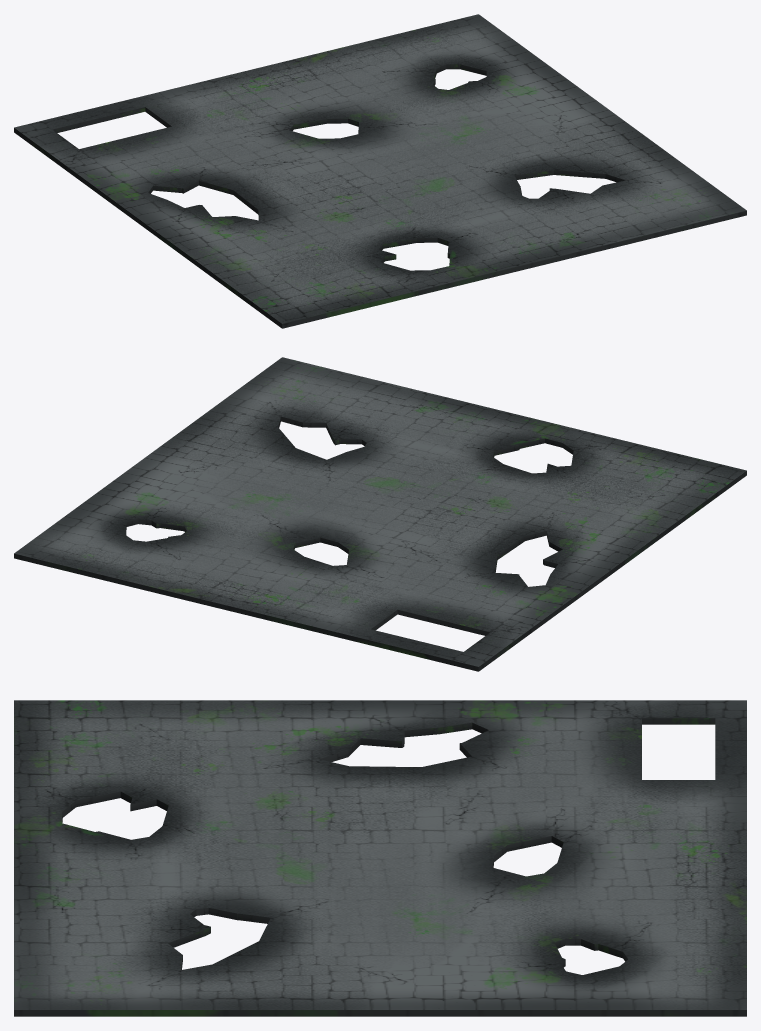
Rendered from Floor 2.fbx.
3 renders of one model, top to bottom at view 1: azimuth 30°, elevation 25°; view 2: azimuth 150°, elevation 25°; view 3: azimuth 270°, elevation 25°, orthographic. The views are drawn at different scales.
Parts seen in each view (by area): view 1: Floor 2; view 2: Floor 2; view 3: Floor 2.
Part boxes in pixels (x1,y1,x2,y2): Floor 2: [14, 14, 746, 328]; Floor 2: [14, 357, 746, 671]; Floor 2: [14, 700, 746, 1016].
Size of the model in its own units: 2000 by 20 by 2000.
